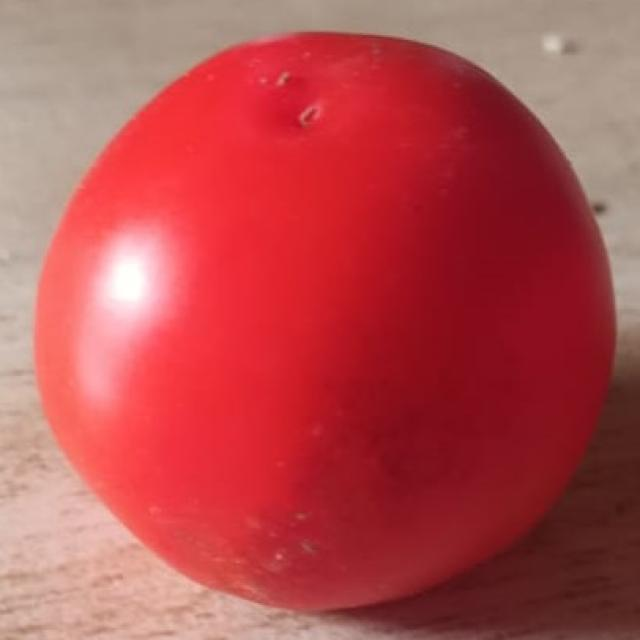ripe tomato: (27, 14, 624, 607)
